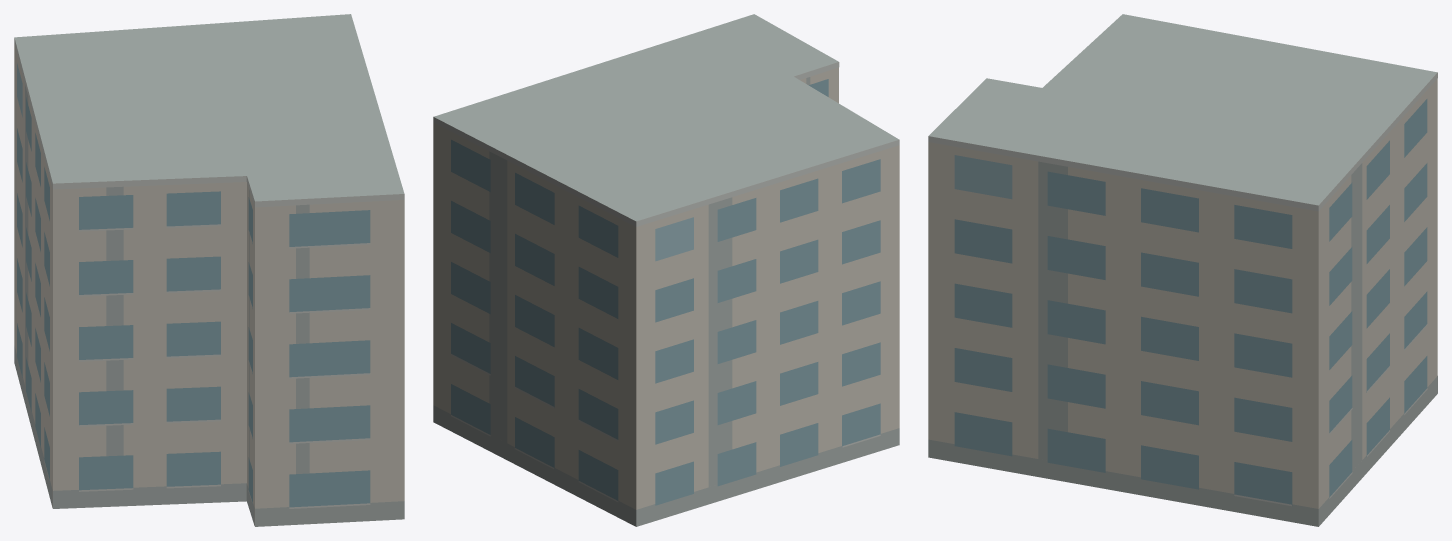
File: survey-upis-32566019.glb
3 renders of one model, left to right at view 1: azimuth 30°, elevation 25°; view 2: azimuth 150°, elevation 25°; view 3: azimuth 270°, elevation 25°, orthographic. The views are drawn at different scales.
Visible parts, largest first — view 1: survey-upis-32566019.tmp; view 2: survey-upis-32566019.tmp; view 3: survey-upis-32566019.tmp.
Part boxes in pixels (<box>): survey-upis-32566019.tmp: <box>14,14,404,526</box>; survey-upis-32566019.tmp: <box>433,14,899,526</box>; survey-upis-32566019.tmp: <box>928,14,1437,526</box>.
Bounding box in the file's own units: 17.01 × 13.3 × 19.12.
